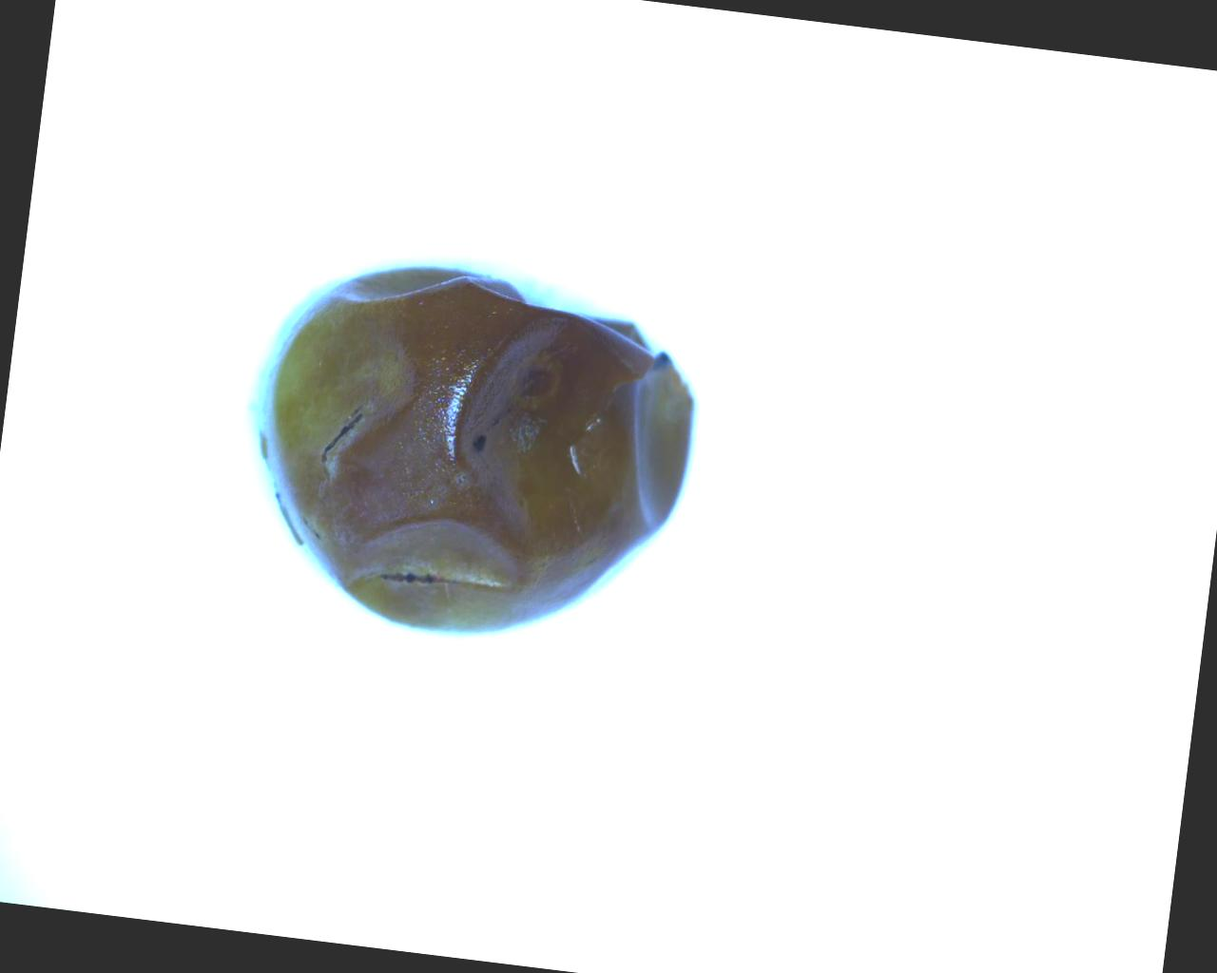Grape Rotten: (231, 243, 712, 661)
